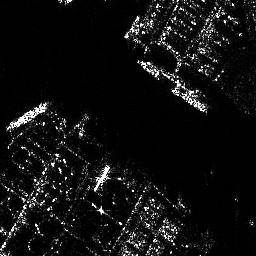ship: (6, 102, 53, 130), (170, 88, 208, 113), (94, 164, 111, 192), (123, 15, 141, 38)
